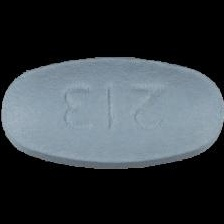45865-518: (0, 0, 224, 224)
